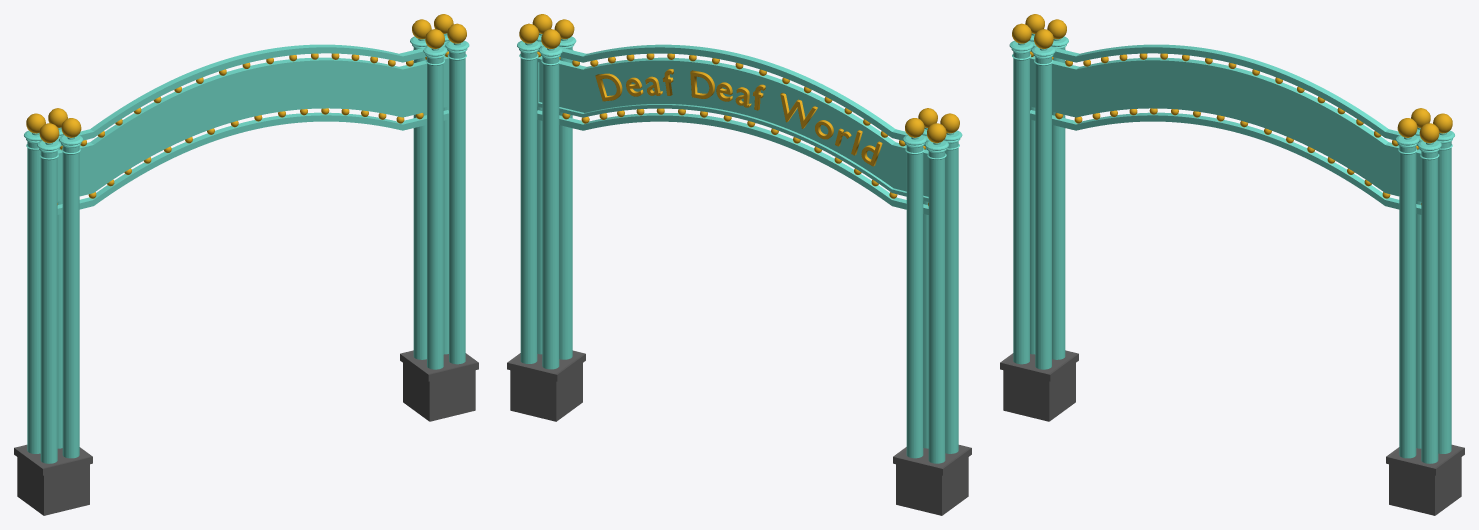
File: DDW sign.fbx
3 renders of one model, left to right at view 1: azimuth 30°, elevation 25°; view 2: azimuth 150°, elevation 25°; view 3: azimuth 330°, elevation 25°, orthographic.
Visible parts, largest first — view 1: pillars, overhang, cornerstone, balls; view 2: pillars, overhang, cornerstone, Text, balls; view 3: pillars, overhang, cornerstone, balls.
Part boxes in pixels (bbox=[...]): pillars: bbox=[24, 14, 469, 463]; overhang: bbox=[56, 42, 448, 214]; cornerstone: bbox=[14, 350, 478, 515]; balls: bbox=[57, 51, 448, 204]; pillars: bbox=[517, 14, 962, 463]; overhang: bbox=[537, 42, 929, 214]; cornerstone: bbox=[507, 350, 971, 515]; Text: bbox=[595, 69, 882, 166]; balls: bbox=[537, 51, 928, 205]; pillars: bbox=[1009, 14, 1454, 463]; overhang: bbox=[1030, 42, 1422, 214]; cornerstone: bbox=[1000, 350, 1464, 515]; balls: bbox=[1030, 51, 1421, 204].
Bounding box in the file's own units: 1897 × 1656 × 218.
